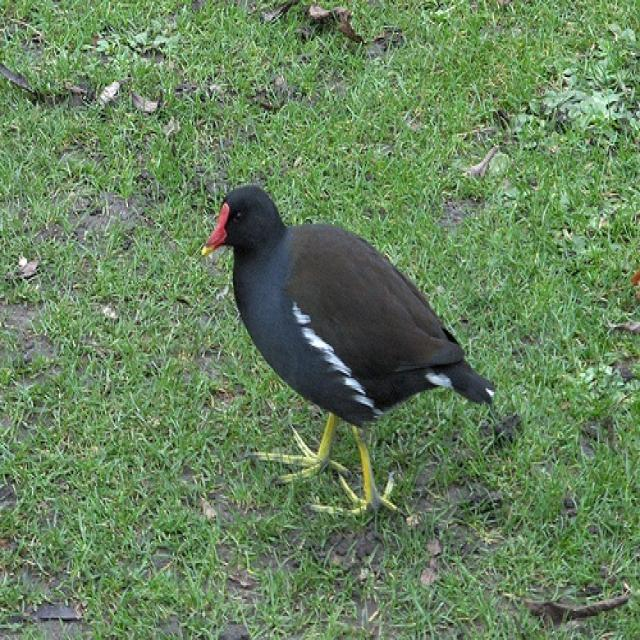bird: (201, 186, 498, 538)
